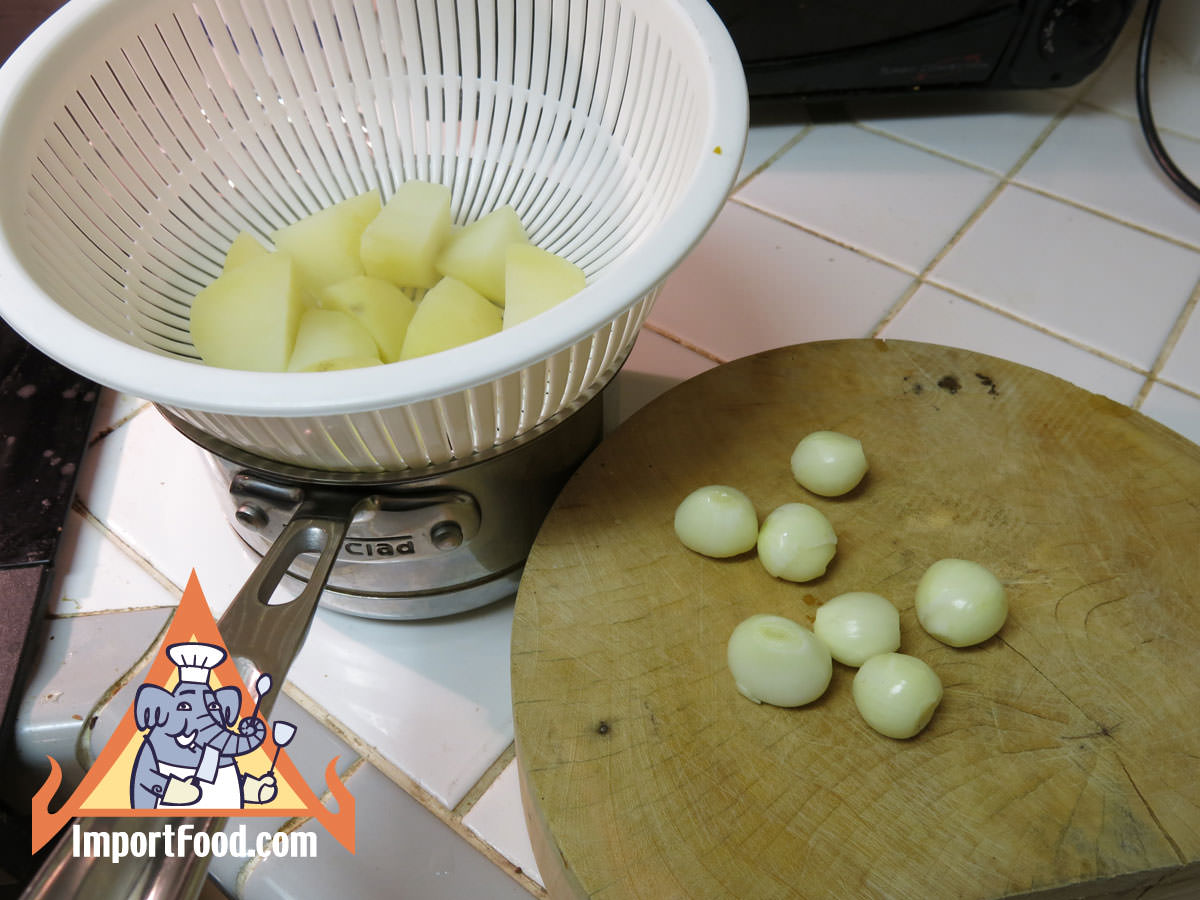boiled potatoes: (178, 170, 568, 337)
